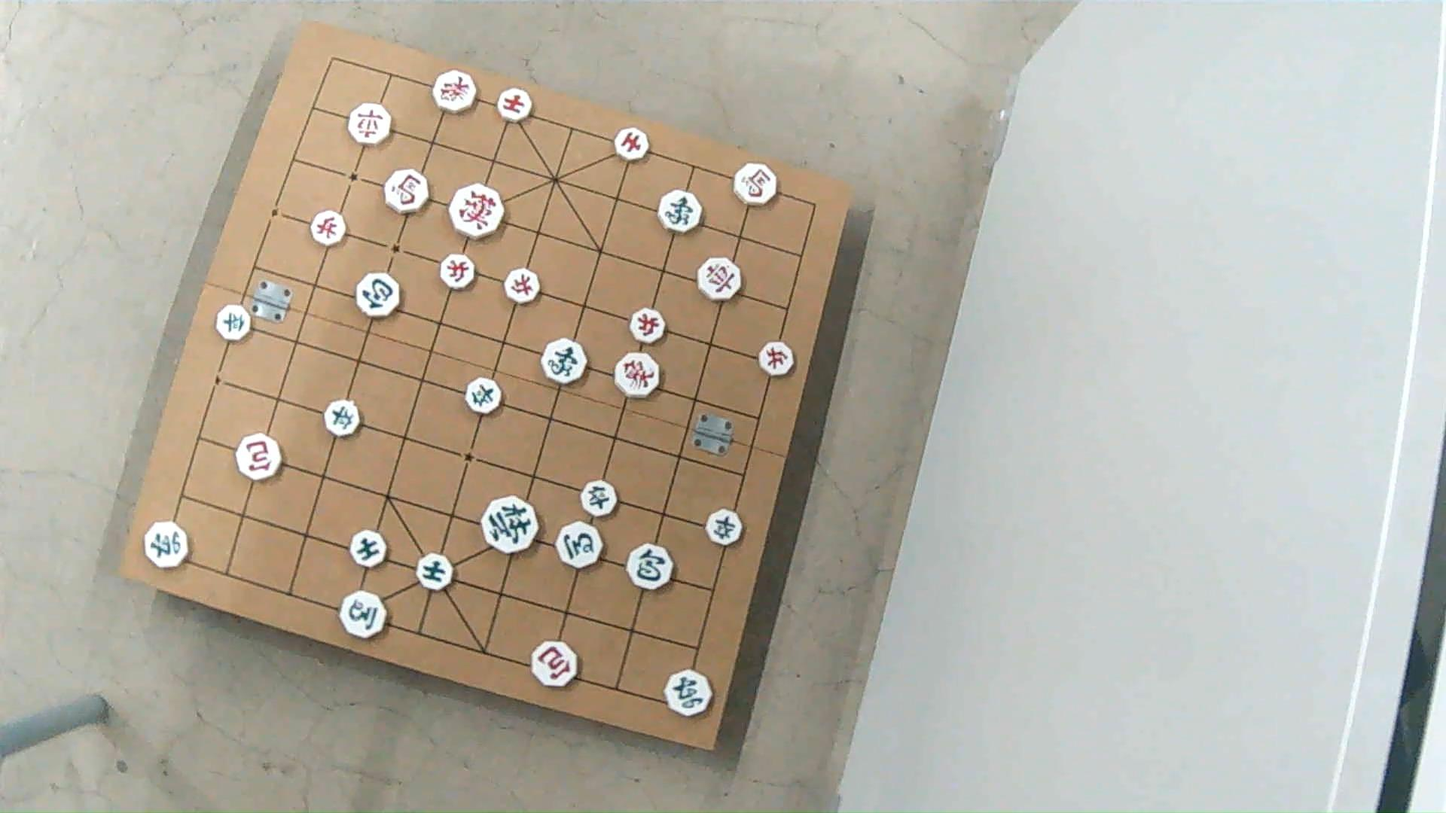cha_green: (663, 668, 713, 715), (145, 521, 190, 568)
cha_red: (698, 258, 741, 301), (350, 105, 393, 146)
jol_green: (325, 402, 361, 440), (707, 510, 745, 546), (466, 376, 502, 413), (217, 304, 252, 341), (581, 480, 616, 516)
jol_red: (630, 309, 667, 345), (441, 254, 477, 289), (311, 211, 346, 246), (505, 269, 540, 304), (759, 343, 794, 377)
ma_green: (342, 590, 389, 638), (557, 523, 602, 569)
ma_red: (383, 169, 428, 215), (736, 165, 778, 206)
po_green: (627, 541, 673, 587), (358, 273, 401, 317)
po_red: (532, 642, 581, 688), (235, 434, 281, 481)
sa_green: (349, 529, 386, 567), (415, 555, 450, 590)
sa_red: (615, 126, 649, 160), (496, 89, 530, 122)
sang_green: (544, 340, 588, 385), (660, 190, 703, 233)
sang_red: (616, 355, 660, 399), (431, 72, 475, 114)
wang_green: (483, 496, 538, 553)
wang_red: (451, 184, 505, 239)
